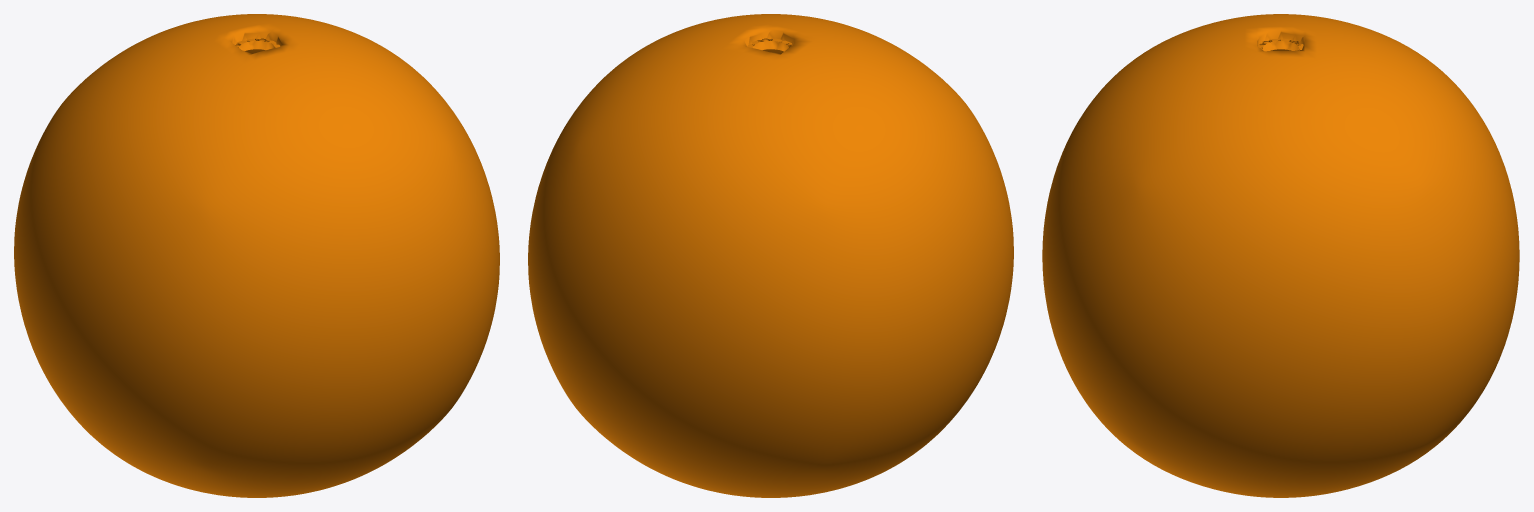
Rendered from planetoidSB_03.fbx.
The picture shows the model from 3 angles, left to right: view 1: azimuth 30°, elevation 25°; view 2: azimuth 150°, elevation 25°; view 3: azimuth 270°, elevation 25°; orthographic projection.
Visible parts, largest first — view 1: Circle; view 2: Circle; view 3: Circle.
Part boxes in pixels (bbox=[...]): Circle: bbox=[14, 14, 499, 497]; Circle: bbox=[528, 14, 1013, 497]; Circle: bbox=[1042, 14, 1519, 497].
Bounding box in the file's own units: 172 × 172 × 172.
